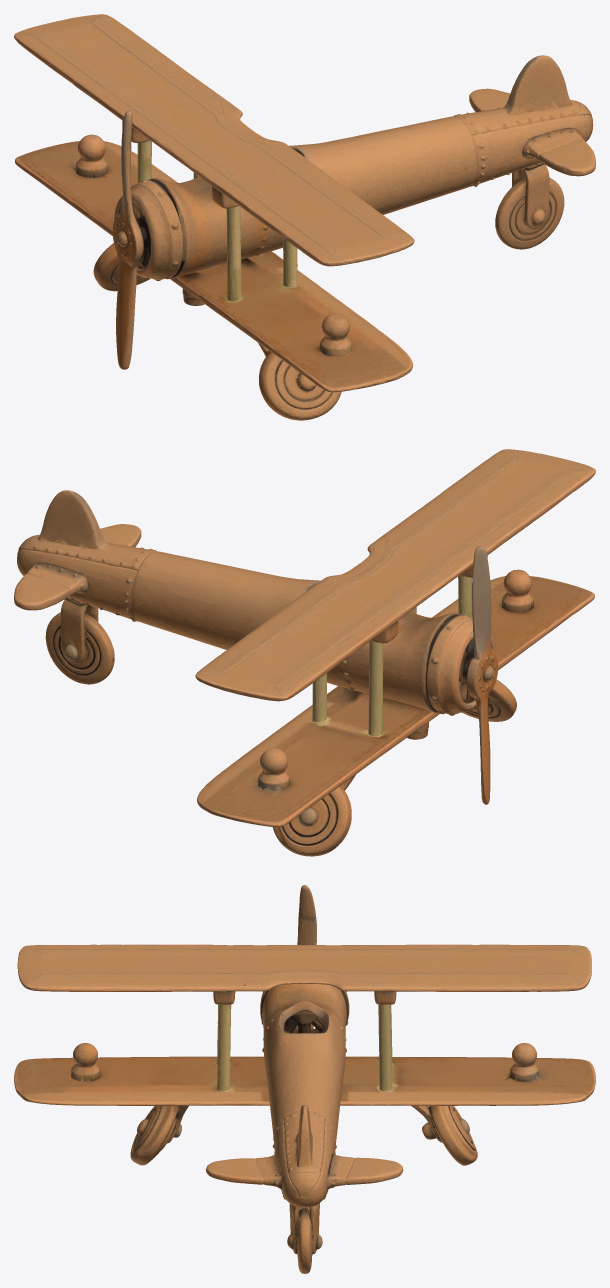
Rendered from Golden Plane.glb.
3 views of the same model, one above another, from view 1: azimuth 30°, elevation 25°; view 2: azimuth 150°, elevation 25°; view 3: azimuth 270°, elevation 25° (orthographic). The views are drawn at different scales.
Bounding box in the file's own units: 1.6 × 0.8579 × 1.9.
1 material, 1 textured.
